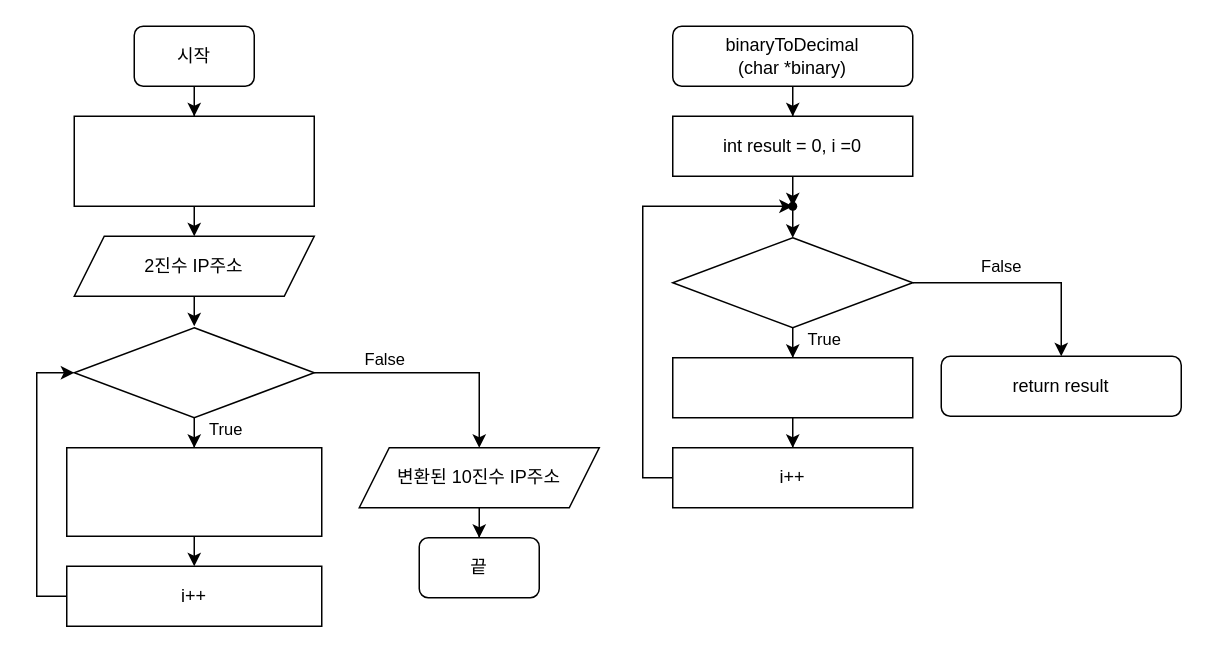
This 1208x665 diagram has some shape labels left out. Here are the shapes that lost their labels. From the top down, the centre of each, then its label:
(x=193, y=160): char ip_decimal_str[4][9], int ip_decimal[4], int i = 0
(x=792, y=282): binary != 'NULL'
(x=193, y=372): i < 4
(x=792, y=387): result = result * 2 + (binary[i] - '0')
(x=193, y=491): ip_decimal[i] = strtol(ip_decimal_str[i] , NULL, 2)
